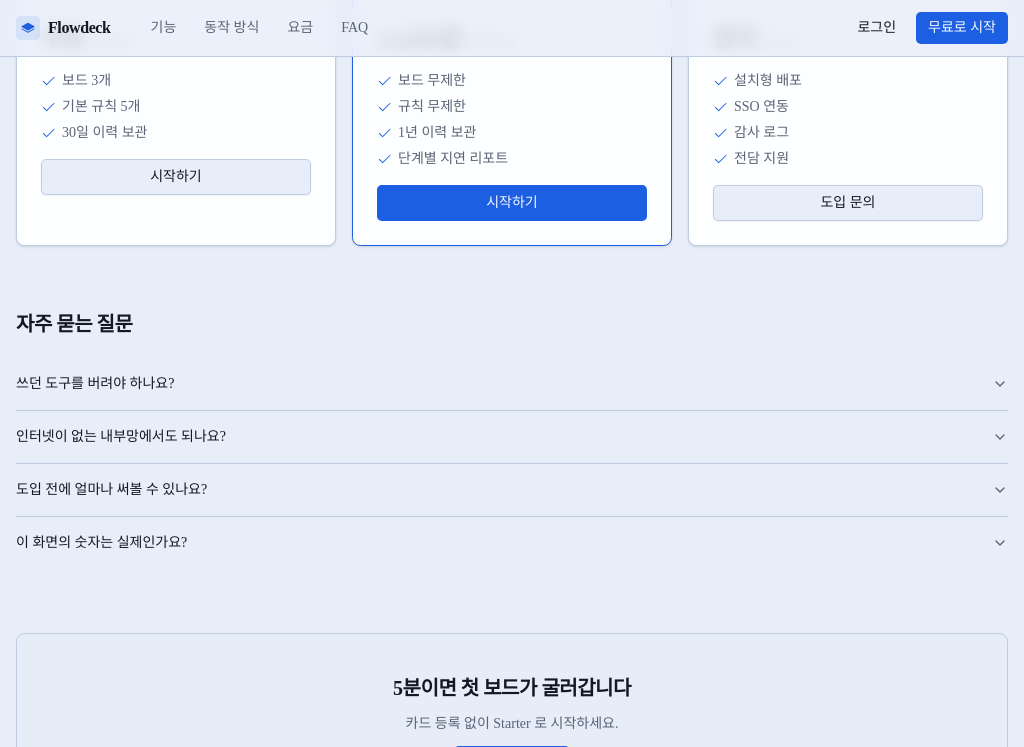
Test: MarketingSitePage (top-nav-site 원형) › FAQ 항목을 펼치면 답변이 보인다
The width and height of the screenshot is (1024, 747).
(page scrolled)
Click the button "쓰던 도구를 버려야 하나요?" at (95,384), box [16, 358, 1008, 410]
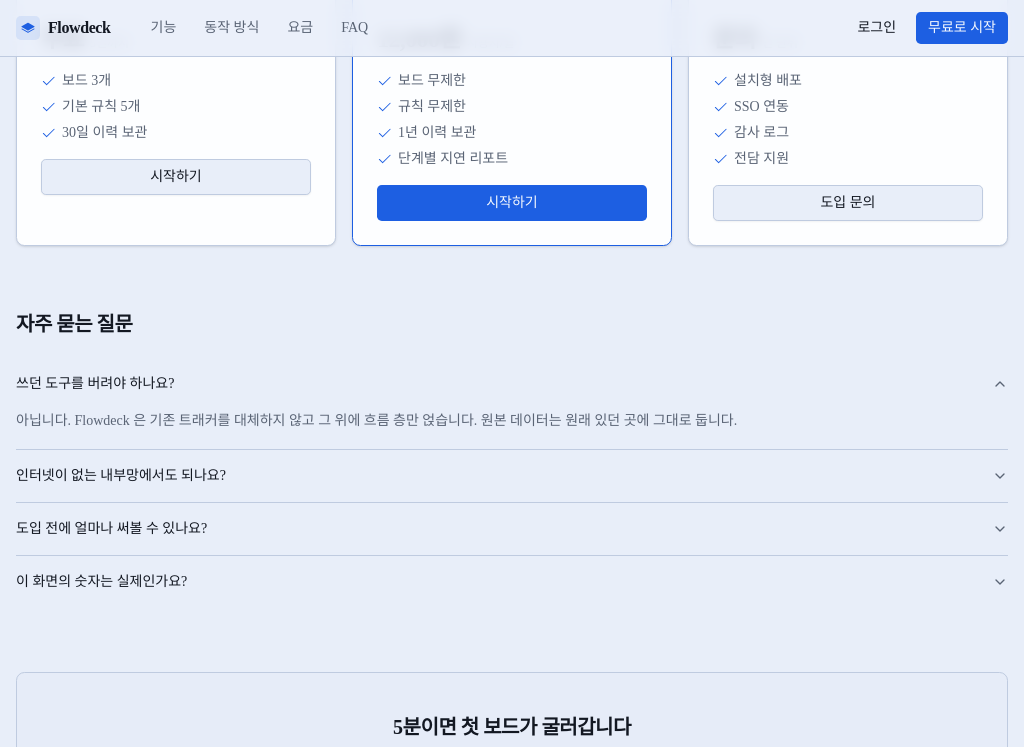
Check: the text "아닙니다. Flowdeck 은 기존 트래커를 대체하지 않고 그 위에 흐름 층만 얹습니다. 원본 데이터는 원래 있던 곳에 그대로 둡니다." is shown, box [16, 413, 737, 428]
